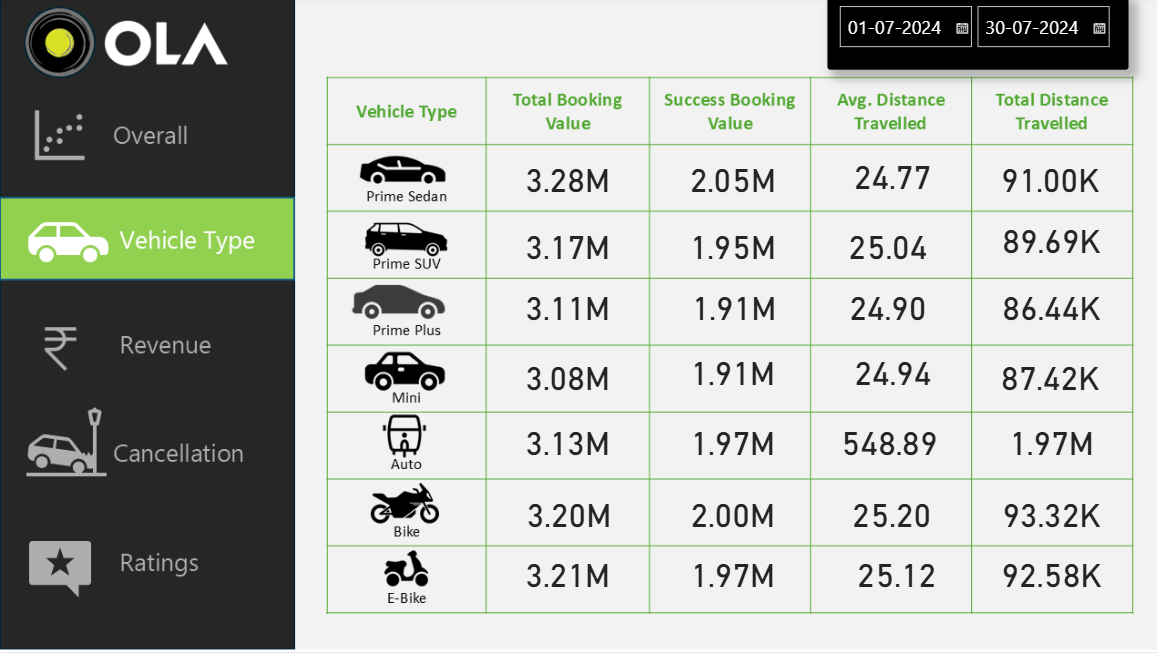

The page's visual inventory and layout, read from the dashboard file:
{"tool":"powerbi","page":{"name":"Vehicle Type","canvas":[1280,720],"ordinal":1},"visuals":[{"type":"actionButton","box":[0,111,324.5,91.7],"z":0},{"type":"actionButton","box":[1.2,340.2,324.5,91.7],"z":1000},{"type":"actionButton","box":[2.4,442.8,324.5,91.7],"z":2000},{"type":"actionButton","box":[0,571.9,324.5,91.7],"z":3000},{"type":"card","fields":{"Values":["Sum(bookings.Booking_Value)"]},"box":[539.3,167.4,168.8,63.1],"z":4000},{"type":"card","fields":{"Values":["Sum(bookings.Booking_Value)"]},"box":[539.3,241.5,168.8,63.1],"z":5000},{"type":"card","fields":{"Values":["Sum(bookings.Booking_Value)"]},"box":[539.3,308.7,168.8,63.1],"z":6000},{"type":"card","fields":{"Values":["Sum(bookings.Booking_Value)"]},"box":[539.3,385.6,168.8,63.1],"z":7000},{"type":"card","fields":{"Values":["Sum(bookings.Booking_Value)"]},"box":[539.3,456.9,168.8,63.1],"z":8000},{"type":"card","fields":{"Values":["Sum(bookings.Booking_Value)"]},"box":[540.7,535.2,168.8,63.1],"z":9000},{"type":"card","fields":{"Values":["Sum(bookings.Booking_Value)"]},"box":[539.3,601,168.8,63.1],"z":10000},{"type":"card","fields":{"Values":["Sum(bookings.Booking_Value)"]},"box":[720.4,167.4,168.8,63.1],"z":11000},{"type":"card","fields":{"Values":["Sum(bookings.Booking_Value)"]},"box":[720.4,601,168.8,63.1],"z":12000},{"type":"card","fields":{"Values":["Sum(bookings.Booking_Value)"]},"box":[720.4,535.2,168.8,63.1],"z":13000},{"type":"card","fields":{"Values":["Sum(bookings.Booking_Value)"]},"box":[720.4,456.9,168.8,63.1],"z":14000},{"type":"card","fields":{"Values":["Sum(bookings.Booking_Value)"]},"box":[721.8,308.7,168.8,63.1],"z":15000},{"type":"card","fields":{"Values":["Sum(bookings.Booking_Value)"]},"box":[720.4,380.1,168.8,63.1],"z":16000},{"type":"card","fields":{"Values":["Sum(bookings.Booking_Value)"]},"box":[720.4,241.5,168.8,63.1],"z":17000},{"type":"card","fields":{"Values":["Avg(bookings.Ride_Distance)"]},"box":[890.6,156.4,178.4,78.2],"z":18000},{"type":"card","fields":{"Values":["Avg(bookings.Ride_Distance)"]},"box":[890.6,241.5,168.8,63.1],"z":19000},{"type":"card","fields":{"Values":["Avg(bookings.Ride_Distance)"]},"box":[890.6,308.7,168.8,63.1],"z":20000},{"type":"card","fields":{"Values":["Avg(bookings.Ride_Distance)"]},"box":[896.1,380.1,168.8,63.1],"z":21000},{"type":"card","fields":{"Values":["Avg(bookings.Booking_Value)"]},"box":[891.9,456.9,168.8,63.1],"z":22000},{"type":"card","fields":{"Values":["Avg(bookings.Ride_Distance)"]},"box":[894.7,535.2,168.8,63.1],"z":23000},{"type":"card","fields":{"Values":["Avg(bookings.Ride_Distance)"]},"box":[900.2,601,168.8,63.1],"z":24000},{"type":"card","fields":{"Values":["Sum(bookings.Ride_Distance)"]},"box":[1069,167.4,168.8,63.1],"z":25000},{"type":"card","fields":{"Values":["Sum(bookings.Ride_Distance)"]},"box":[1070.3,234.6,168.8,63.1],"z":26000},{"type":"card","fields":{"Values":["Sum(bookings.Ride_Distance)"]},"box":[1070.3,308.7,168.8,63.1],"z":27000},{"type":"card","fields":{"Values":["Sum(bookings.Ride_Distance)"]},"box":[1069,385.6,168.8,63.1],"z":28000},{"type":"card","fields":{"Values":["Sum(bookings.Booking_Value)"]},"box":[1070.3,456.9,168.8,63.1],"z":29000},{"type":"card","fields":{"Values":["Sum(bookings.Ride_Distance)"]},"box":[1070.3,535.2,168.8,63.1],"z":30000},{"type":"card","fields":{"Values":["Sum(bookings.Ride_Distance)"]},"box":[1070.3,601,168.8,63.1],"z":31000},{"type":"slicer","title":"Date","fields":{"Values":["bookings.Date"]},"box":[908.4,0,330.7,81],"z":32000}]}

Visuals, with their boxes on the page's 1280x720 design canvas (x1, y1, x2, y2). These are canvas units, not pixel positions in the 1157x653 screenshot, which may show the page scaled, cropped or inside an application window:
actionButton: x1=0, y1=111, x2=324, y2=203
actionButton: x1=1, y1=340, x2=326, y2=432
actionButton: x1=2, y1=443, x2=327, y2=534
actionButton: x1=0, y1=572, x2=324, y2=664
card - Sum(bookings.Booking_Value): x1=539, y1=167, x2=708, y2=230
card - Sum(bookings.Booking_Value): x1=539, y1=242, x2=708, y2=305
card - Sum(bookings.Booking_Value): x1=539, y1=309, x2=708, y2=372
card - Sum(bookings.Booking_Value): x1=539, y1=386, x2=708, y2=449
card - Sum(bookings.Booking_Value): x1=539, y1=457, x2=708, y2=520
card - Sum(bookings.Booking_Value): x1=541, y1=535, x2=710, y2=598
card - Sum(bookings.Booking_Value): x1=539, y1=601, x2=708, y2=664
card - Sum(bookings.Booking_Value): x1=720, y1=167, x2=889, y2=230
card - Sum(bookings.Booking_Value): x1=720, y1=601, x2=889, y2=664
card - Sum(bookings.Booking_Value): x1=720, y1=535, x2=889, y2=598
card - Sum(bookings.Booking_Value): x1=720, y1=457, x2=889, y2=520
card - Sum(bookings.Booking_Value): x1=722, y1=309, x2=891, y2=372
card - Sum(bookings.Booking_Value): x1=720, y1=380, x2=889, y2=443
card - Sum(bookings.Booking_Value): x1=720, y1=242, x2=889, y2=305
card - Avg(bookings.Ride_Distance): x1=891, y1=156, x2=1069, y2=235
card - Avg(bookings.Ride_Distance): x1=891, y1=242, x2=1059, y2=305
card - Avg(bookings.Ride_Distance): x1=891, y1=309, x2=1059, y2=372
card - Avg(bookings.Ride_Distance): x1=896, y1=380, x2=1065, y2=443
card - Avg(bookings.Booking_Value): x1=892, y1=457, x2=1061, y2=520
card - Avg(bookings.Ride_Distance): x1=895, y1=535, x2=1064, y2=598
card - Avg(bookings.Ride_Distance): x1=900, y1=601, x2=1069, y2=664
card - Sum(bookings.Ride_Distance): x1=1069, y1=167, x2=1238, y2=230
card - Sum(bookings.Ride_Distance): x1=1070, y1=235, x2=1239, y2=298
card - Sum(bookings.Ride_Distance): x1=1070, y1=309, x2=1239, y2=372
card - Sum(bookings.Ride_Distance): x1=1069, y1=386, x2=1238, y2=449
card - Sum(bookings.Booking_Value): x1=1070, y1=457, x2=1239, y2=520
card - Sum(bookings.Ride_Distance): x1=1070, y1=535, x2=1239, y2=598
card - Sum(bookings.Ride_Distance): x1=1070, y1=601, x2=1239, y2=664
"Date" slicer: x1=908, y1=0, x2=1239, y2=81
